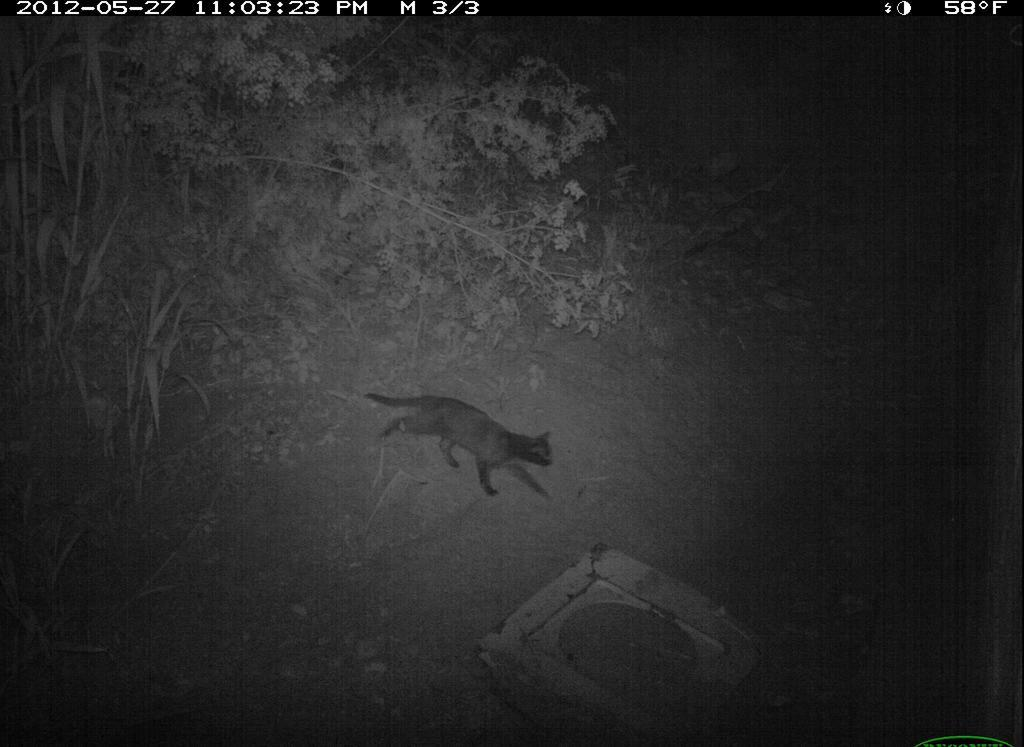cat: (351, 372, 584, 530)
